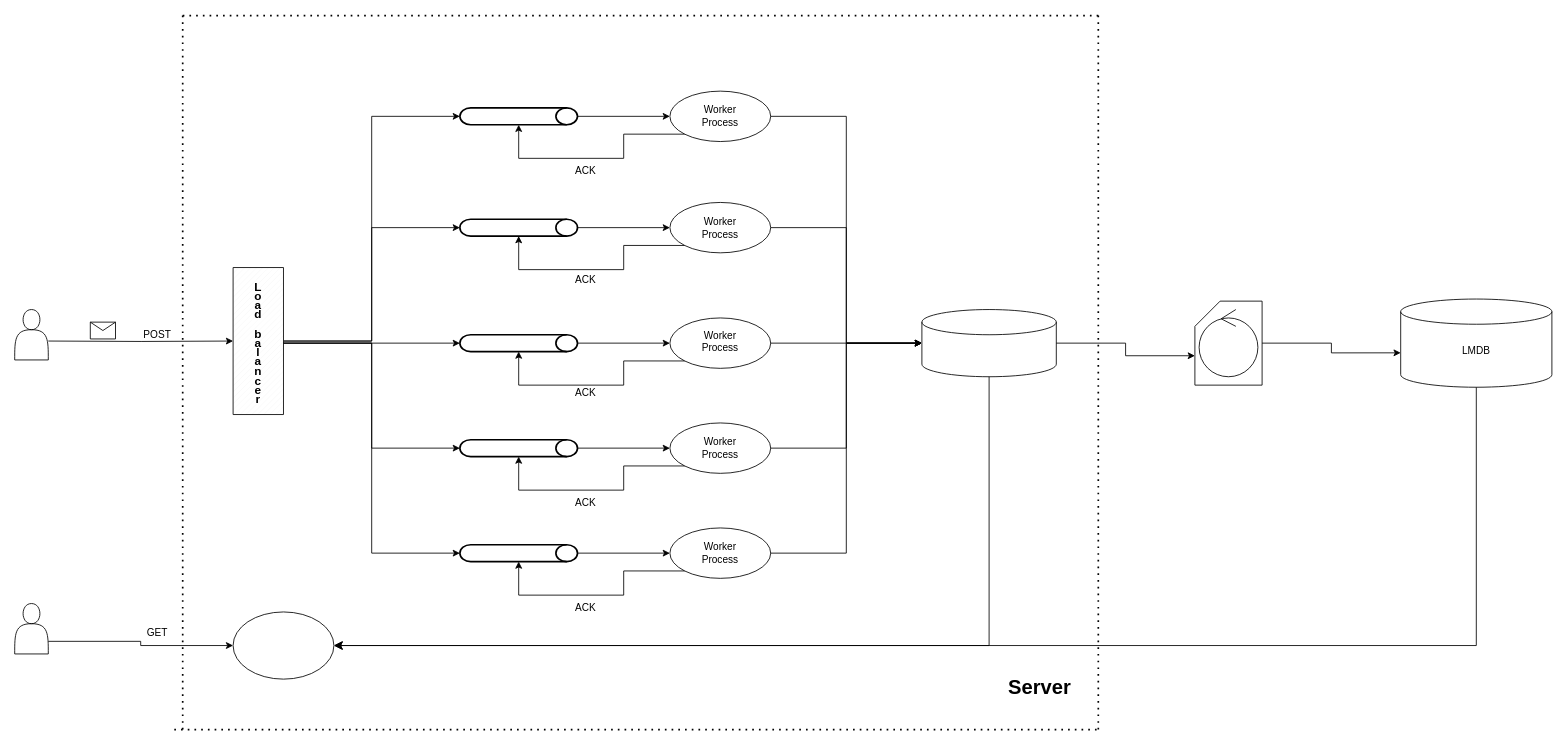
The diagram is 1567 pixels wide and 745 high, and some of its shapes have lost their labels. The centre of each missing label's shape, as x and y in pixels:
Controller: point (283, 645)
CRON JOB: point (1228, 343)
REDIS: point (988, 343)
